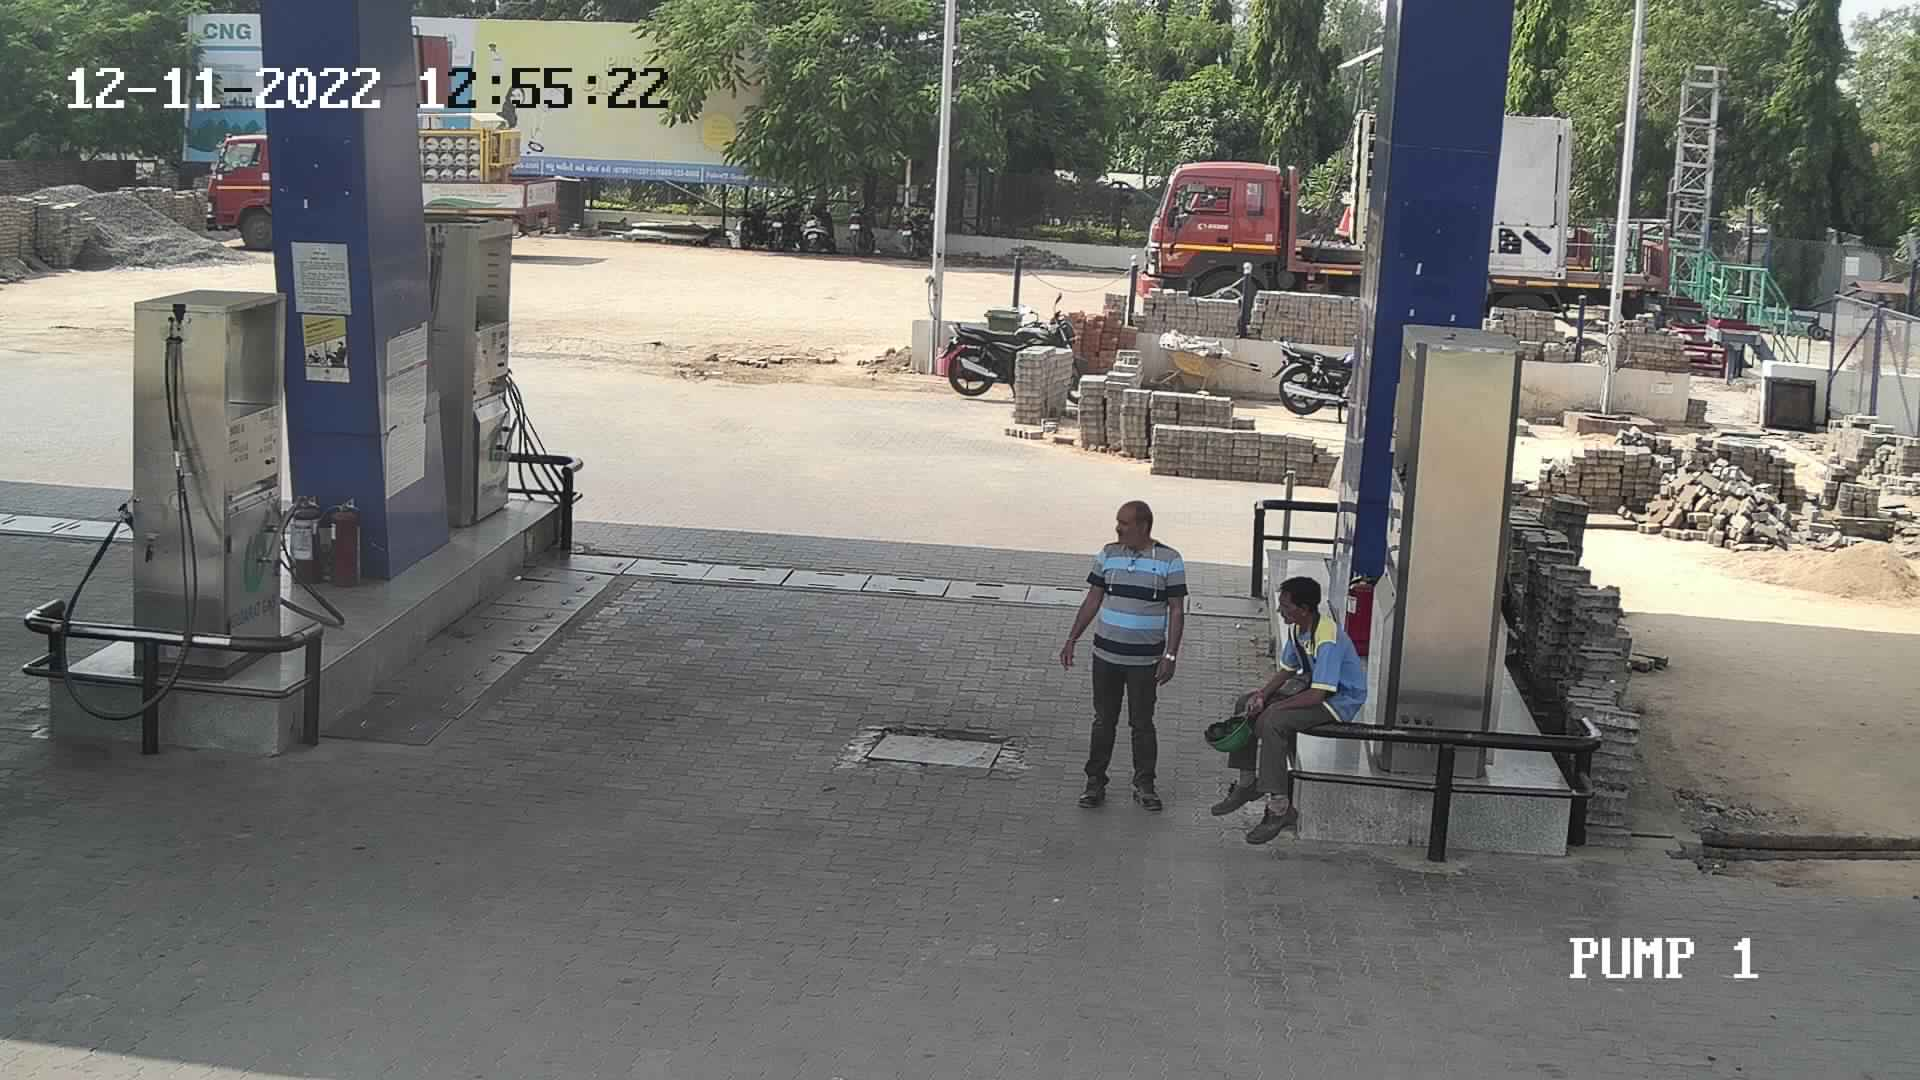Bike: (931, 293, 1084, 410), (1269, 335, 1365, 431), (891, 185, 942, 266), (727, 189, 782, 248), (791, 187, 843, 251), (840, 179, 881, 257), (767, 182, 807, 252)
HMV: (1127, 94, 1386, 342), (401, 86, 596, 248)
Others: (1197, 572, 1369, 847)
